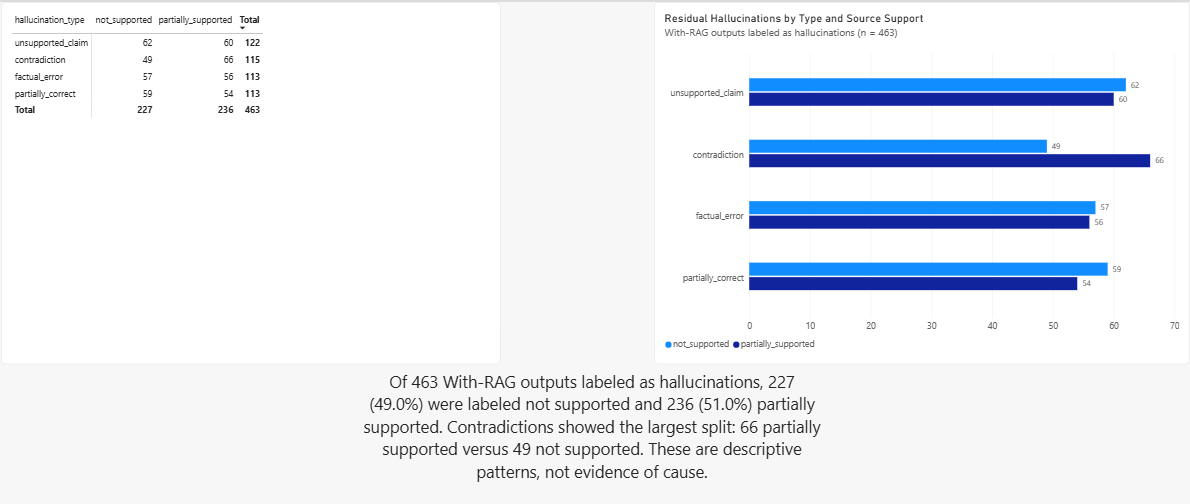

What the dashboard file says about the page in this screenshot:
{"tool":"powerbi","page":{"name":"RAG Residual Hallucination Types","canvas":[1920,1080],"ordinal":1},"visuals":[{"type":"pivotTable","fields":{"Columns":["RAG_Evaluation_Data.source_support_label"],"Rows":["RAG_Evaluation_Data.hallucination_type"],"Values":["CountNonNull(RAG_Evaluation_Data.sample_id)"]},"box":[9.6,0,803.3,581.6],"z":0},{"type":"clusteredBarChart","title":"Residual Hallucinations by Type and Source Support","fields":{"Category":["RAG_Evaluation_Data.hallucination_type"],"Series":["RAG_Evaluation_Data.source_support_label"],"Y":["CountNonNull(RAG_Evaluation_Data.sample_id)"]},"box":[1058.8,0,861.2,581.6],"z":1},{"type":"textbox","box":[586.4,591.3,745.5,210.5],"z":2}]}

Visuals, with their boxes on the page's 1920x1080 design canvas (x1, y1, x2, y2). These are canvas units, not pixel positions in the 1190x504 screenshot, which may show the page scaled, cropped or inside an application window:
pivotTable - RAG_Evaluation_Data.source_support_label x RAG_Evaluation_Data.hallucination_type: <bbox>10, 0, 813, 582</bbox>
"Residual Hallucinations by Type and Source Support" clusteredBarChart: <bbox>1059, 0, 1920, 582</bbox>
textbox: <bbox>586, 591, 1332, 802</bbox>
